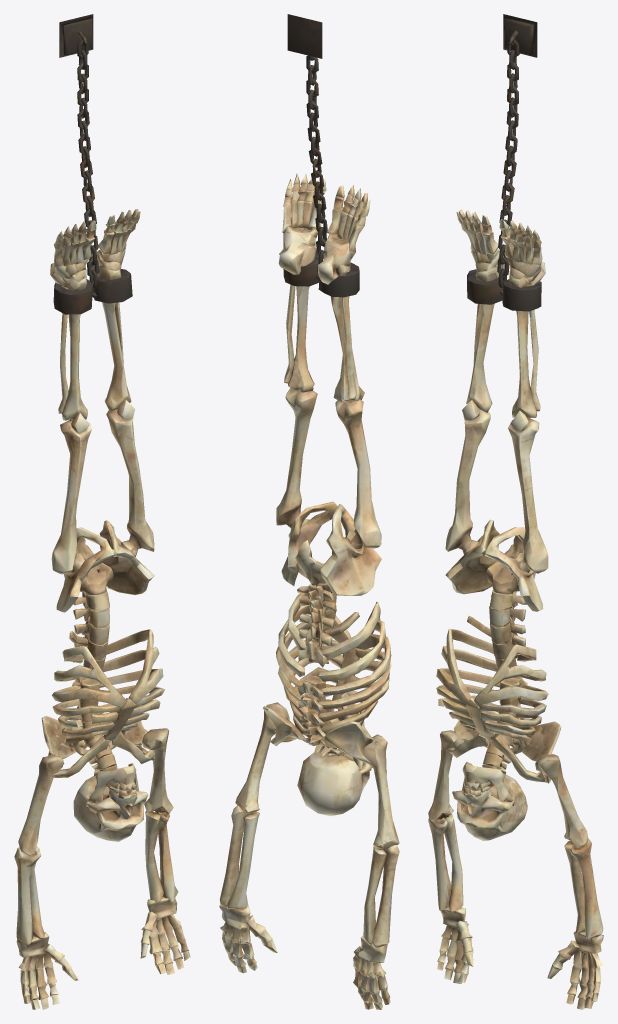
3 renders of one model, left to right at view 1: azimuth 30°, elevation 25°; view 2: azimuth 150°, elevation 25°; view 3: azimuth 330°, elevation 25°, orthographic. The views are drawn at different scales.
Parts seen in each view (by area): view 1: SM_Skeleton_Hanging_03_v1_LOD0; view 2: SM_Skeleton_Hanging_03_v1_LOD0; view 3: SM_Skeleton_Hanging_03_v1_LOD0.
Part boxes in pixels (left/top/right/bottom): SM_Skeleton_Hanging_03_v1_LOD0: left=14, top=14, right=190, bottom=1009; SM_Skeleton_Hanging_03_v1_LOD0: left=219, top=14, right=399, bottom=1009; SM_Skeleton_Hanging_03_v1_LOD0: left=428, top=14, right=603, bottom=1009.
Bounding box in the file's own units: 0.5808 × 3.12 × 0.3161.
2 materials, 2 textured.
